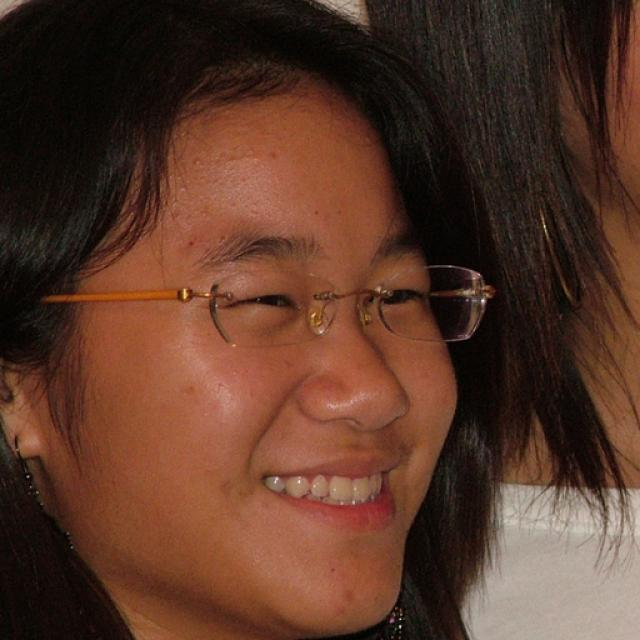Acne: (182, 152, 213, 177)
